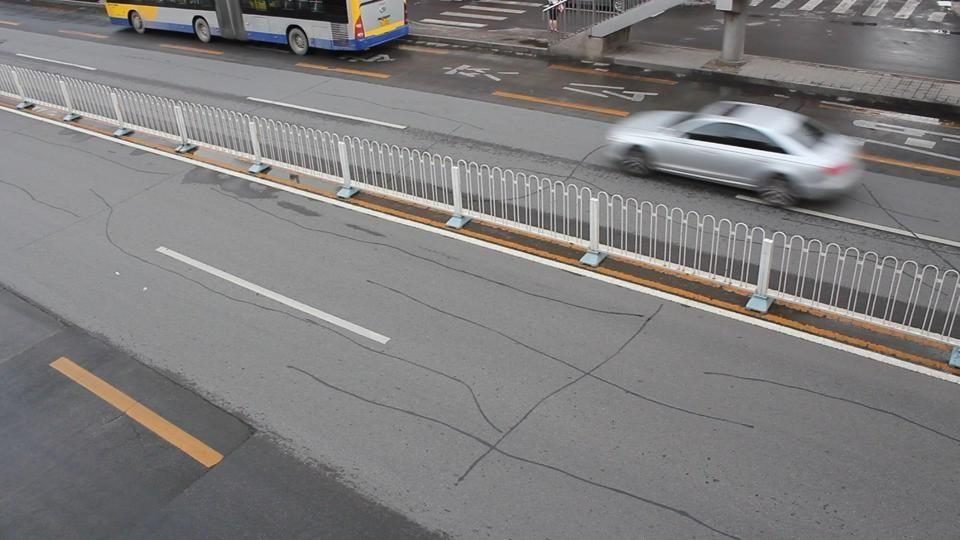car: (604, 99, 867, 209)
